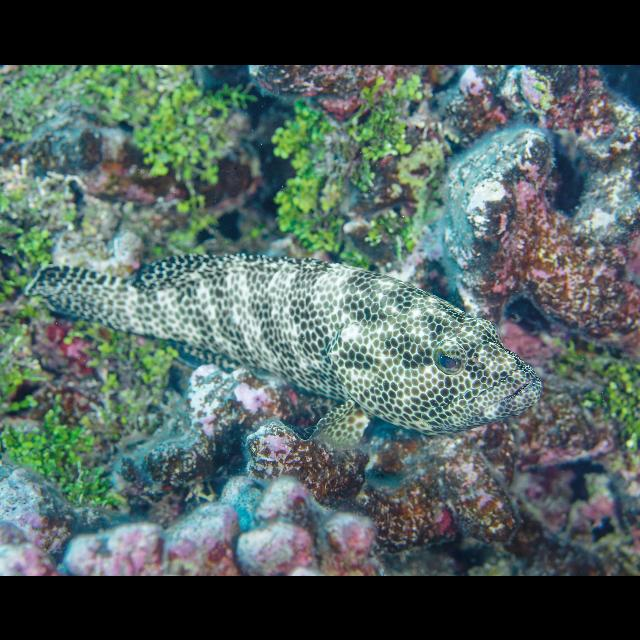Groupers: (34, 254, 546, 456)
